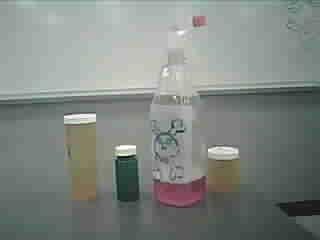Bottle A: (60, 106, 102, 207)
Bottle B: (205, 140, 247, 195)
Bottle C: (109, 140, 146, 205)
hazard: (147, 15, 207, 208)
